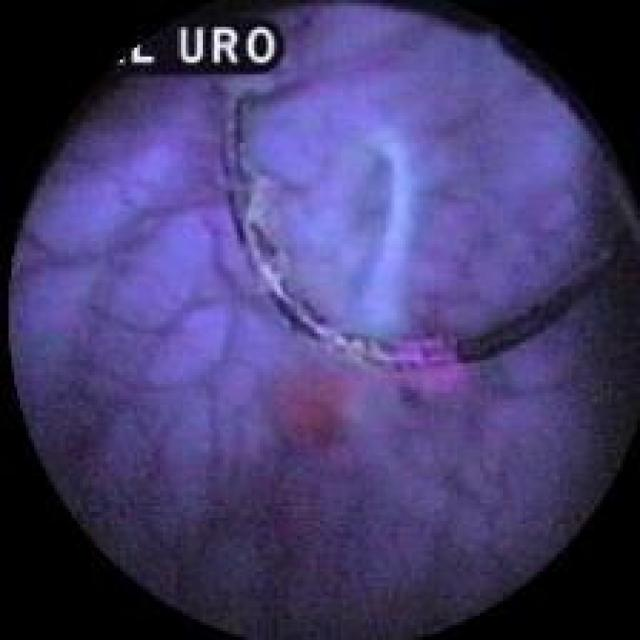color misalignment: (98, 23, 280, 76)
instrument: (226, 7, 630, 359)
